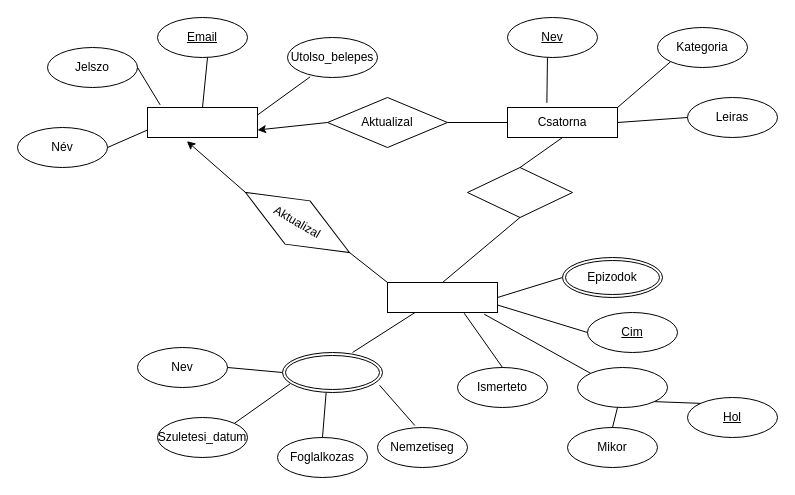
The diagram is 795 pixels wide and 495 high, and some of its shapes have lost their labels. Each missing label, with the box of its shape:
Admin: (146, 106, 258, 138)
Musor: (386, 282, 498, 312)
Sugarzas: (576, 366, 668, 408)
Szereplok: (282, 352, 382, 392)
Vetit: (466, 166, 572, 218)
